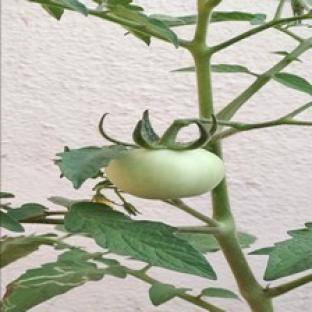Tomato: (106, 150, 224, 199)
